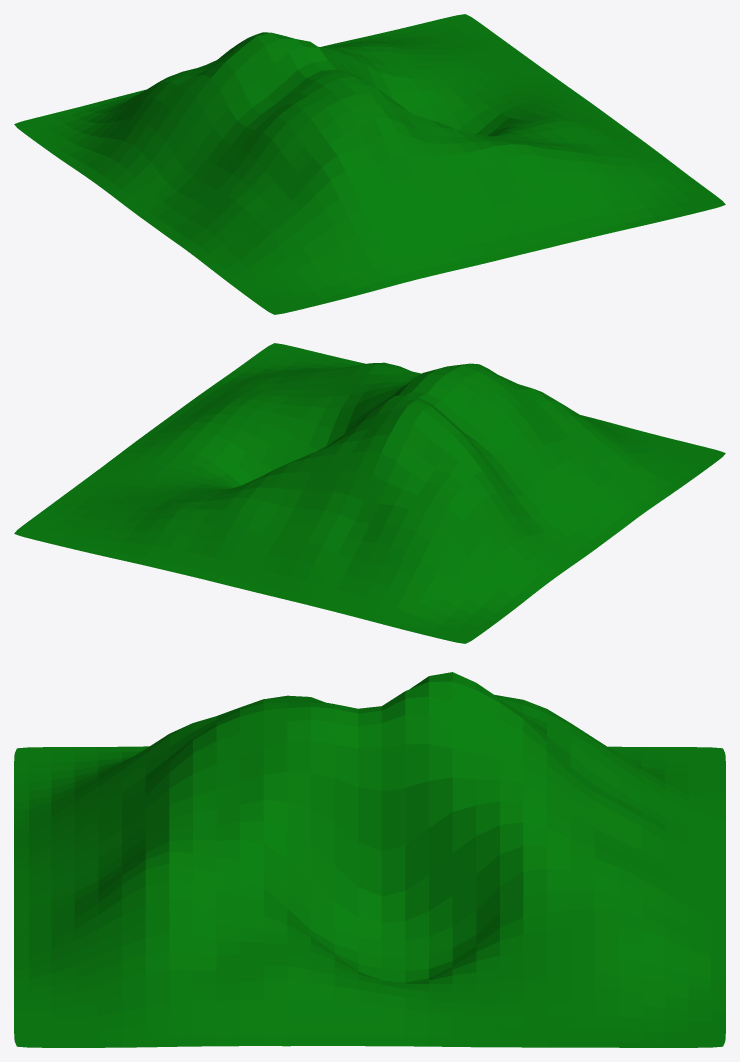
The model's file is LowPolyLandscape01.fbx.
3 views of the same model, one above another, from view 1: azimuth 30°, elevation 25°; view 2: azimuth 150°, elevation 25°; view 3: azimuth 270°, elevation 25° (orthographic). The views are drawn at different scales.
Parts seen in each view (by area): view 1: Landscape; view 2: Landscape; view 3: Landscape.
Part boxes in pixels (x1=…): Landscape: x1=14, y1=14, x2=725, y2=314; Landscape: x1=14, y1=343, x2=725, y2=643; Landscape: x1=14, y1=672, x2=725, y2=1047.
Bounding box in the file's own units: 1945 × 576 × 1945.
